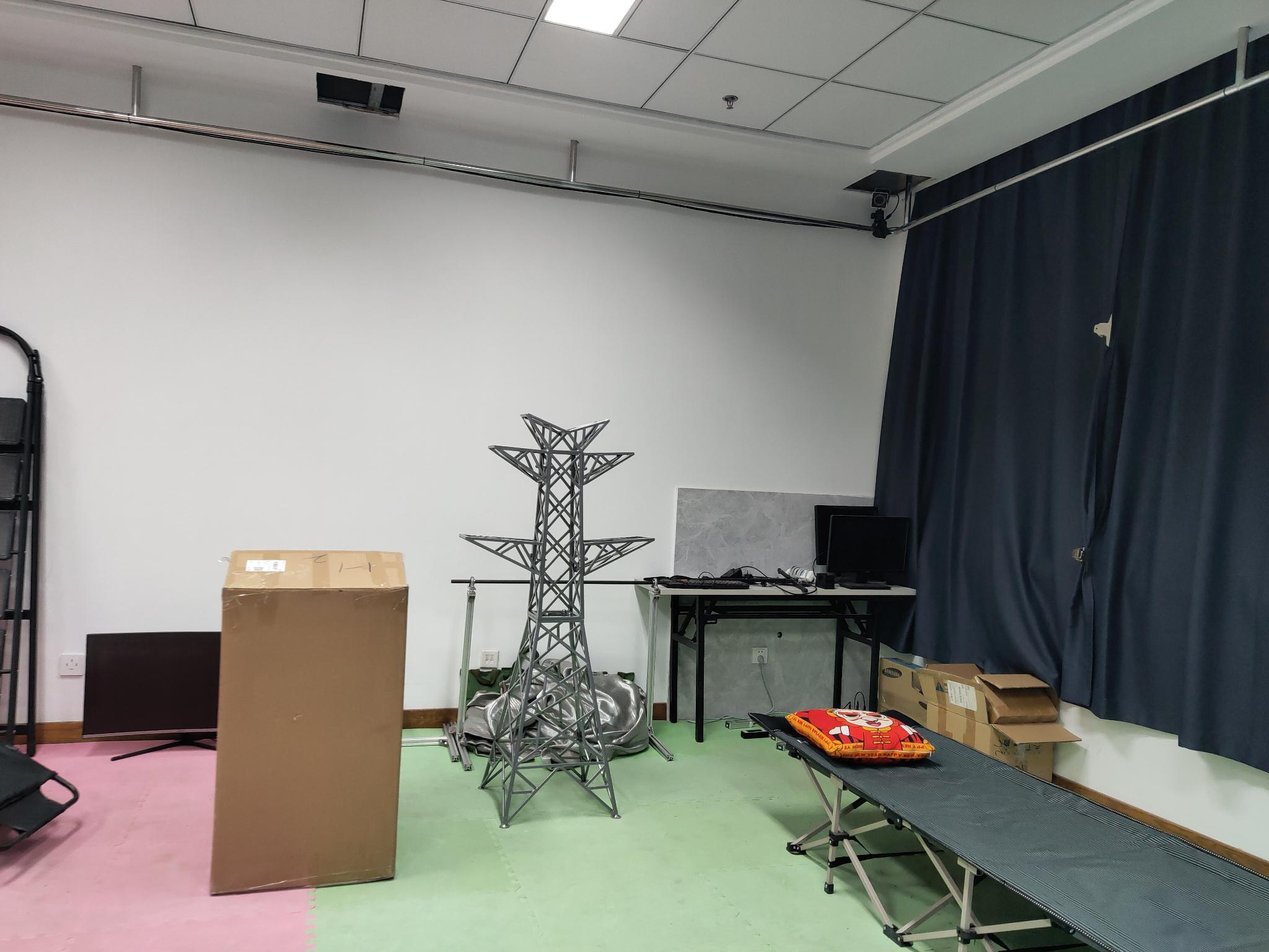tower: (458, 411, 657, 830)
